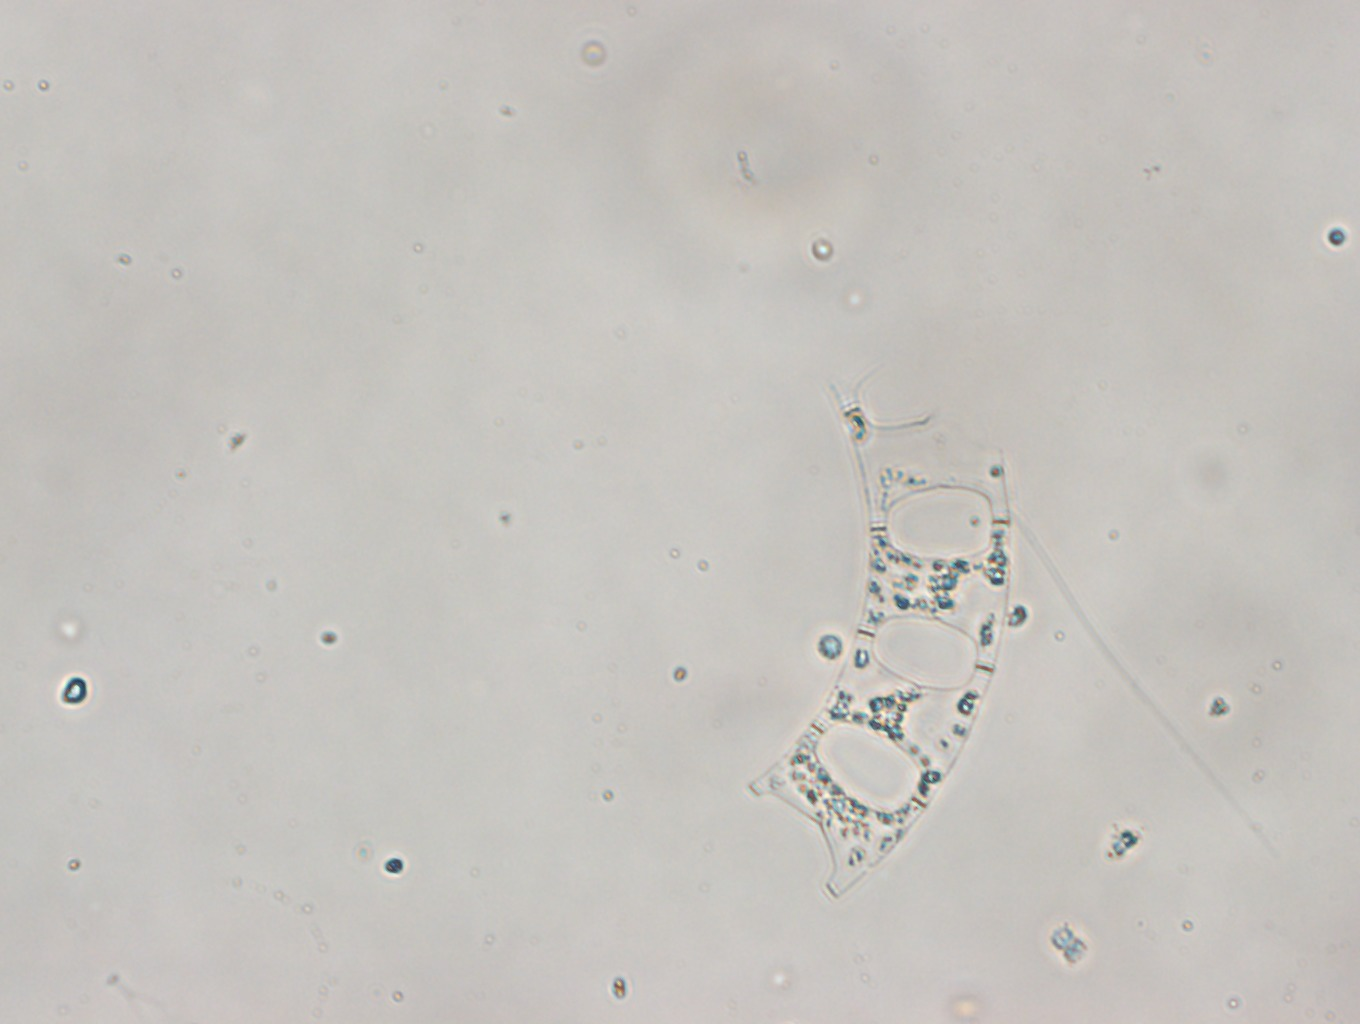eucampia: (747, 372, 1013, 897)
